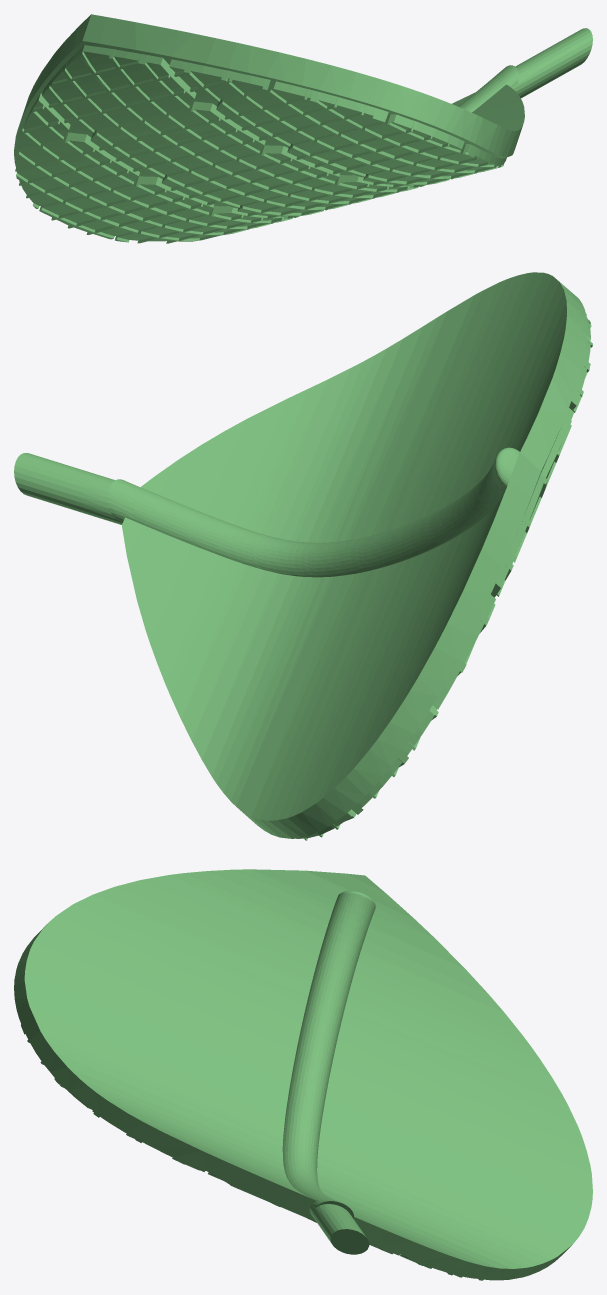
Rendered from apple4.glb.
The picture shows the model from 3 angles, top to bottom: view 1: azimuth 30°, elevation 25°; view 2: azimuth 150°, elevation 25°; view 3: azimuth 270°, elevation 25°; orthographic projection. The views are drawn at different scales.
Visible parts, largest first — view 1: Mesh_Mesh_head_geo.001_lambert2SG.001; view 2: Mesh_Mesh_head_geo.001_lambert2SG.001; view 3: Mesh_Mesh_head_geo.001_lambert2SG.001.
Part boxes in pixels (left/top/right/bottom): Mesh_Mesh_head_geo.001_lambert2SG.001: left=14, top=14, right=592, bottom=243; Mesh_Mesh_head_geo.001_lambert2SG.001: left=14, top=272, right=592, bottom=840; Mesh_Mesh_head_geo.001_lambert2SG.001: left=14, top=869, right=592, bottom=1280.
Bounding box in the file's own units: 0.00741 × 0.00505 × 0.00758.
